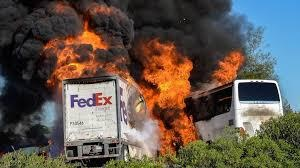fire: (41, 7, 202, 148), (206, 46, 247, 85)
